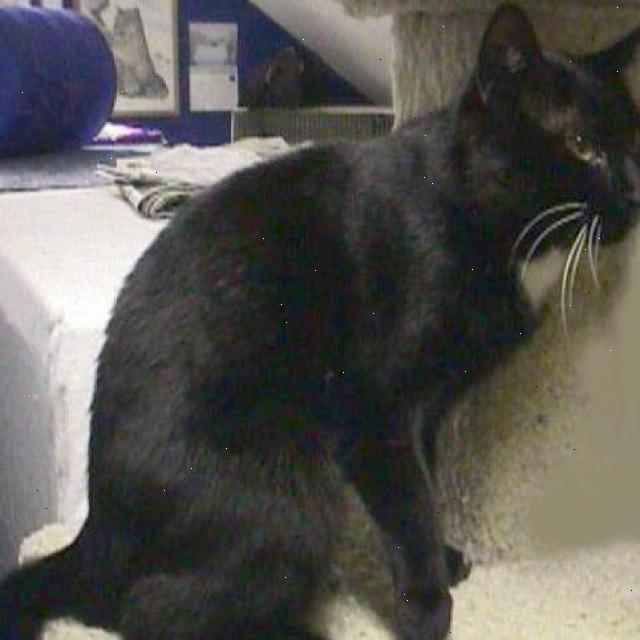Cat: (441, 18, 640, 276)
